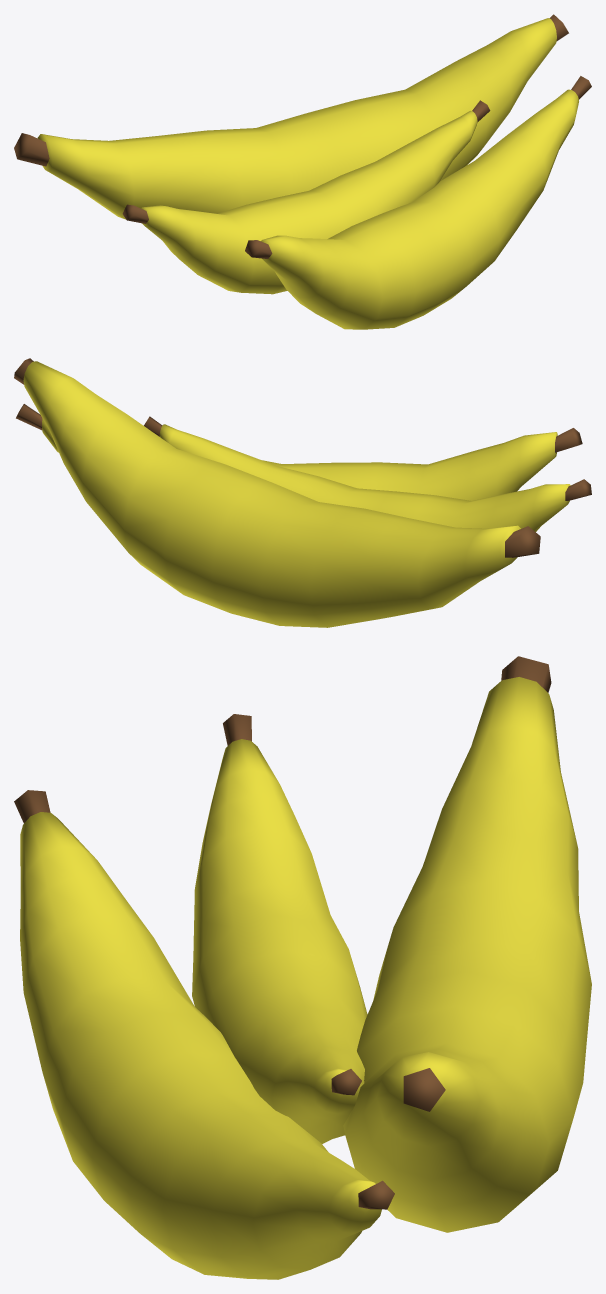
Rendered from Banana.fbx.
The picture shows the model from 3 angles, top to bottom: view 1: azimuth 30°, elevation 25°; view 2: azimuth 150°, elevation 25°; view 3: azimuth 270°, elevation 25°; orthographic projection. The views are drawn at different scales.
Parts seen in each view (by area): view 1: Banana_top_001; view 2: Banana_top_001; view 3: Banana_top_001.
Boxes of the visible parts, box(x1,y1,x2,y2) form: Banana_top_001: box(14, 14, 591, 329); Banana_top_001: box(14, 358, 591, 627); Banana_top_001: box(14, 656, 591, 1279).
Bounding box in the file's own units: 564 × 200 × 292.
